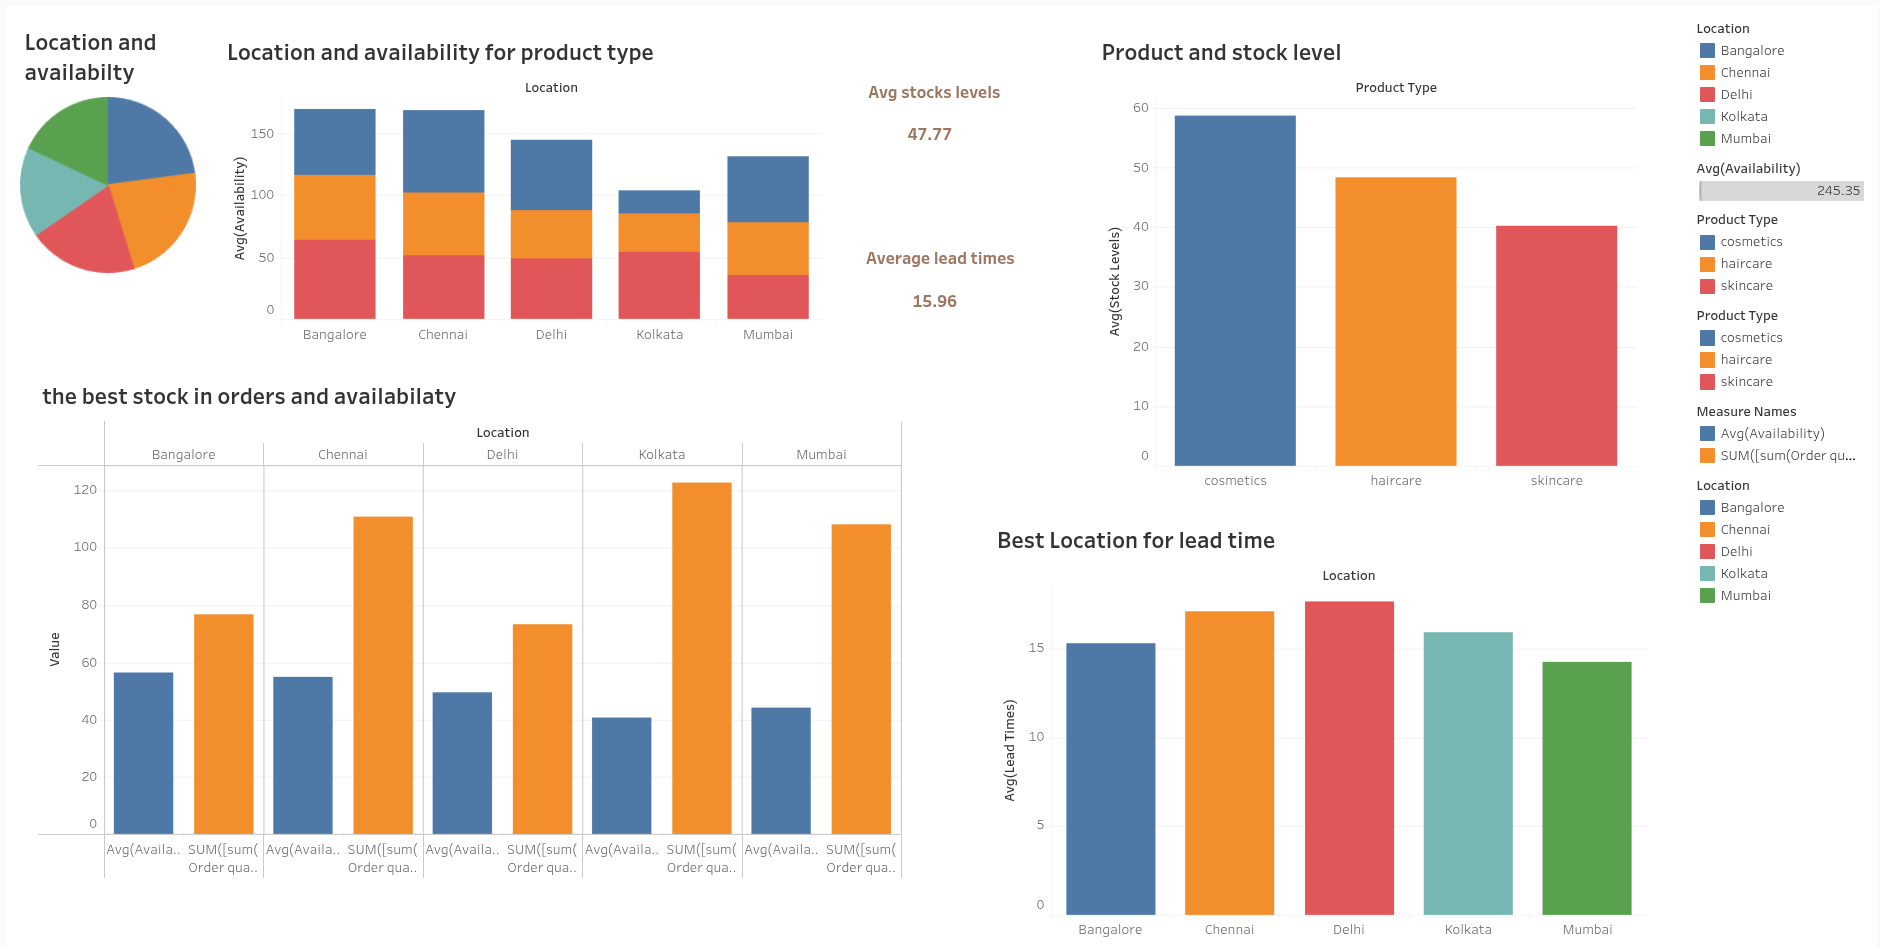

This screenshot's page, from the dashboard's own definition file:
{"tool":"tableau","page":{"name":"Stock","canvas":[1000,1000],"units":"permille","ordinal":1},"visuals":[{"type":"worksheet","title":"Sheet 6","mark":"Pie","box":[4.7,10.2,896.5,979.5]},{"type":"legend","title":"Sheet 6","param":"[federated.1r1k5mq0202u9e1cyw5cw1x6gndq].[none:location:nk]","box":[901.2,10.2,94.1,172.8]},{"type":"worksheet","title":"Sheet 8","mark":"Automatic","rows":["avg(availability)"],"cols":["location"],"box":[115.3,24.3,320.6,332.9]},{"type":"worksheet","title":"Sheet 7","mark":"Automatic","rows":["avg(stock_levels)"],"cols":["product_type"],"box":[582.9,24.3,289.4,487.8]},{"type":"text","box":[460.6,56.3,94.1,114]},{"type":"legend","title":"Sheet 6","param":"[federated.1r1k5mq0202u9e1cyw5cw1x6gndq].[sum:avg(availability):qk]","box":[901.2,183.1,94.1,65.3]},{"type":"text","box":[459.4,243.3,100,90.9]},{"type":"legend","title":"Sheet 7","param":"[federated.0fmw7oi1x6obkl1at538q0pvp2uq].[none:product_type:nk]","box":[901.2,248.4,94.1,119.1]},{"type":"legend","title":"Sheet 8","param":"[federated.10tuu6p0pj4ot81dqtzky1kkl0sr].[none:product_type:nk]","box":[901.2,367.5,94.1,119.1]},{"type":"worksheet","title":"Sheet 9","mark":"Automatic","cols":["location"],"box":[16.5,388,462.4,535.2]},{"type":"legend","title":"Sheet 9","param":"[federated.1ps2rdq0zireq31bjnk790vtzokq].[:Measure Names]","box":[901.2,486.5,94.1,92.2]},{"type":"worksheet","title":"Sheet 10","mark":"Automatic","rows":["avg(lead_times)"],"cols":["location"],"box":[527.1,540.3,350,445.6]},{"type":"legend","title":"Sheet 10","param":"[federated.0jgnxx61rq51ih1gjo2jy05zhhql].[none:location:nk]","box":[901.2,578.7,94.1,172.8]}]}

Visuals, with their boxes on the dashboard's canvas, which has no fixed pixel size, in thousandths of its width and height (x1, y1, x2, y2). These are canvas units, not pixel positions in the 1880x948 screenshot, which may show the page scaled, cropped or inside an application window:
"Sheet 6" worksheet (Pie marks): <bbox>5, 10, 901, 990</bbox>
"Sheet 6" legend: <bbox>901, 10, 995, 183</bbox>
"Sheet 8" worksheet: <bbox>115, 24, 436, 357</bbox>
"Sheet 7" worksheet: <bbox>583, 24, 872, 512</bbox>
text: <bbox>461, 56, 555, 170</bbox>
"Sheet 6" legend: <bbox>901, 183, 995, 248</bbox>
text: <bbox>459, 243, 559, 334</bbox>
"Sheet 7" legend: <bbox>901, 248, 995, 368</bbox>
"Sheet 8" legend: <bbox>901, 368, 995, 487</bbox>
"Sheet 9" worksheet: <bbox>16, 388, 479, 923</bbox>
"Sheet 9" legend: <bbox>901, 486, 995, 579</bbox>
"Sheet 10" worksheet: <bbox>527, 540, 877, 986</bbox>
"Sheet 10" legend: <bbox>901, 579, 995, 752</bbox>
